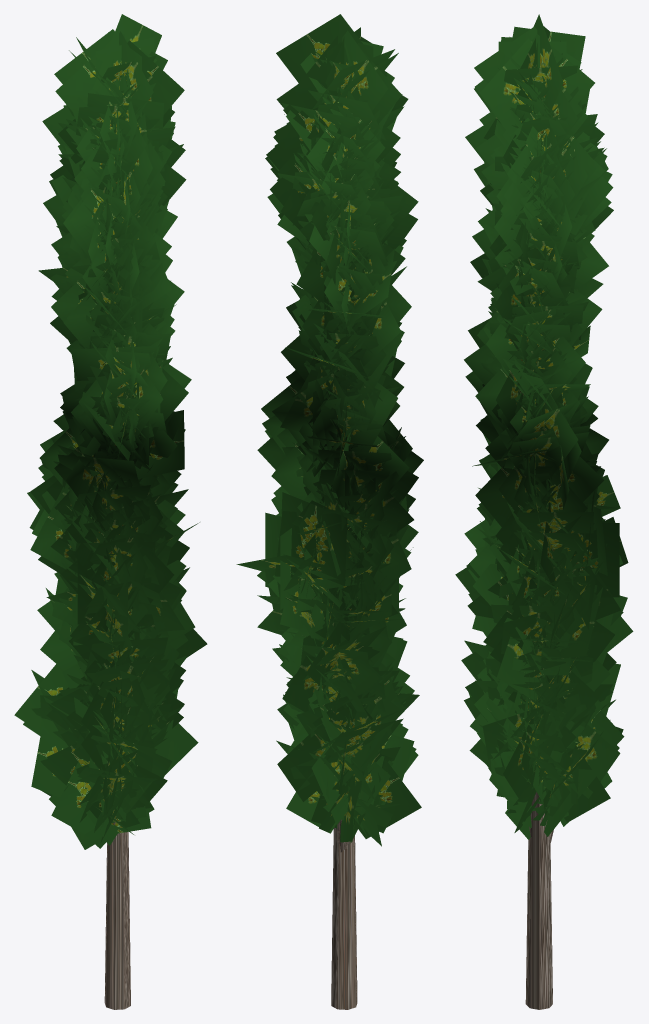
Rendered from poplar_lod1.glb.
3 renders of one model, left to right at view 1: azimuth 30°, elevation 25°; view 2: azimuth 150°, elevation 25°; view 3: azimuth 270°, elevation 25°, orthographic.
Parts seen in each view (by area): view 1: leaves, bark; view 2: leaves, bark; view 3: leaves, bark.
Boxes of the visible parts, x1,y1,x2,y2 form: leaves: (14, 14, 207, 849); bark: (104, 822, 130, 1009); leaves: (236, 14, 423, 846); bark: (331, 819, 357, 1009); leaves: (455, 14, 633, 839); bark: (525, 792, 553, 1009).
Bounding box in the file's own units: 4.27 × 25.52 × 4.19.
Materials: 2 (2 with a texture image).
